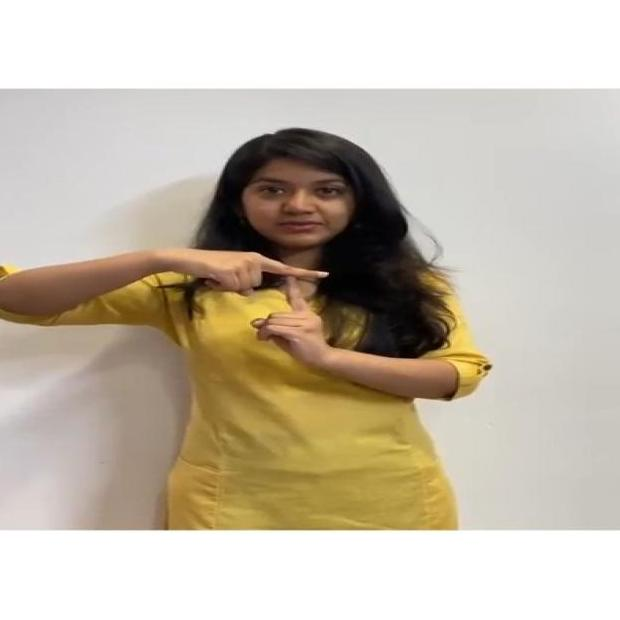S: (155, 242, 360, 368)
